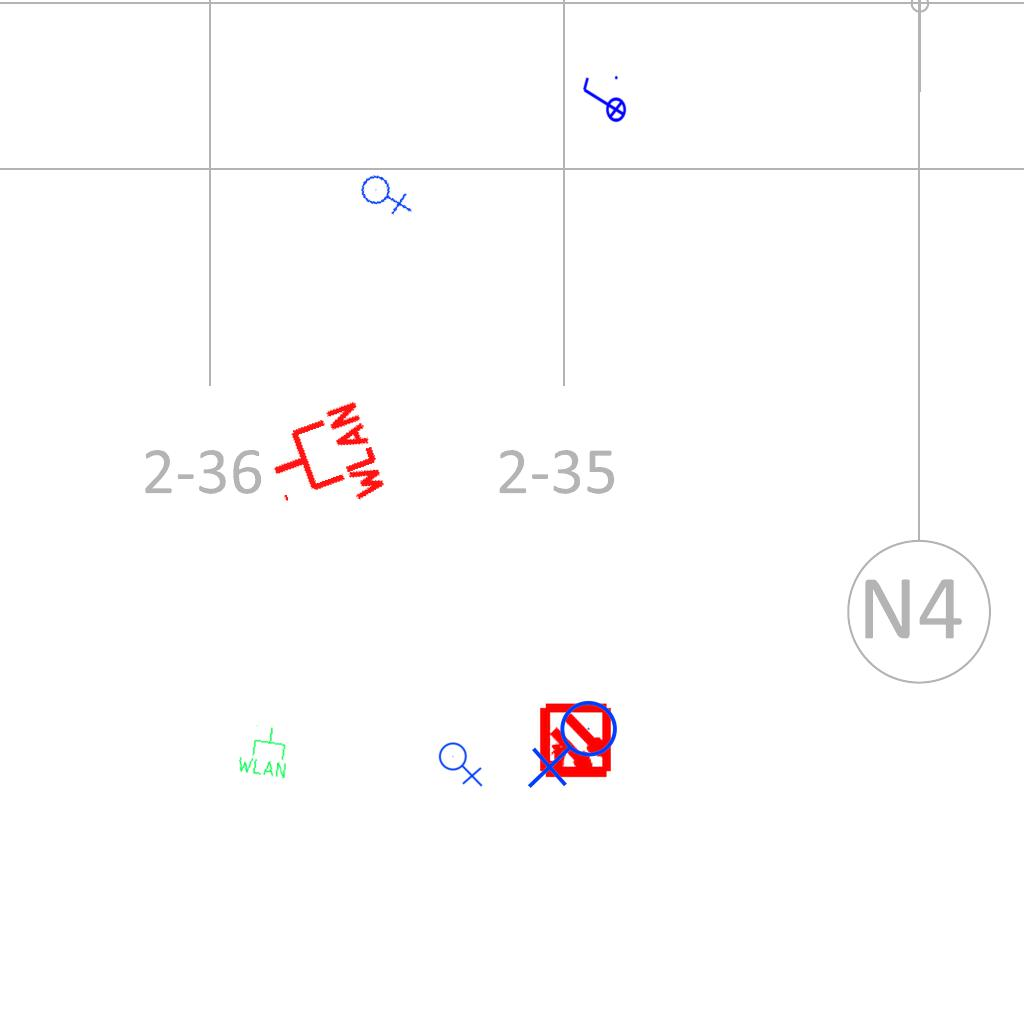Ausschalter_beleuchtet: (579, 73, 627, 129)
Elektroanschluss_allgemein_230V_Geraeteanschlussdose_230V: (527, 699, 626, 793), (356, 163, 415, 224), (438, 738, 485, 787)
OT_Multisensormelder_(Kombination_RMO_WMD): (519, 686, 632, 799)
WLAN: (256, 396, 391, 530), (234, 721, 294, 781)
